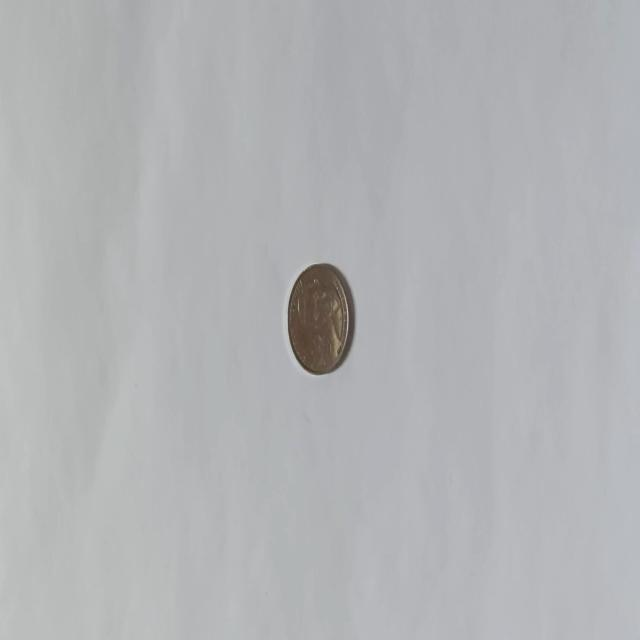seribu rupiah koin: (286, 261, 350, 375)
